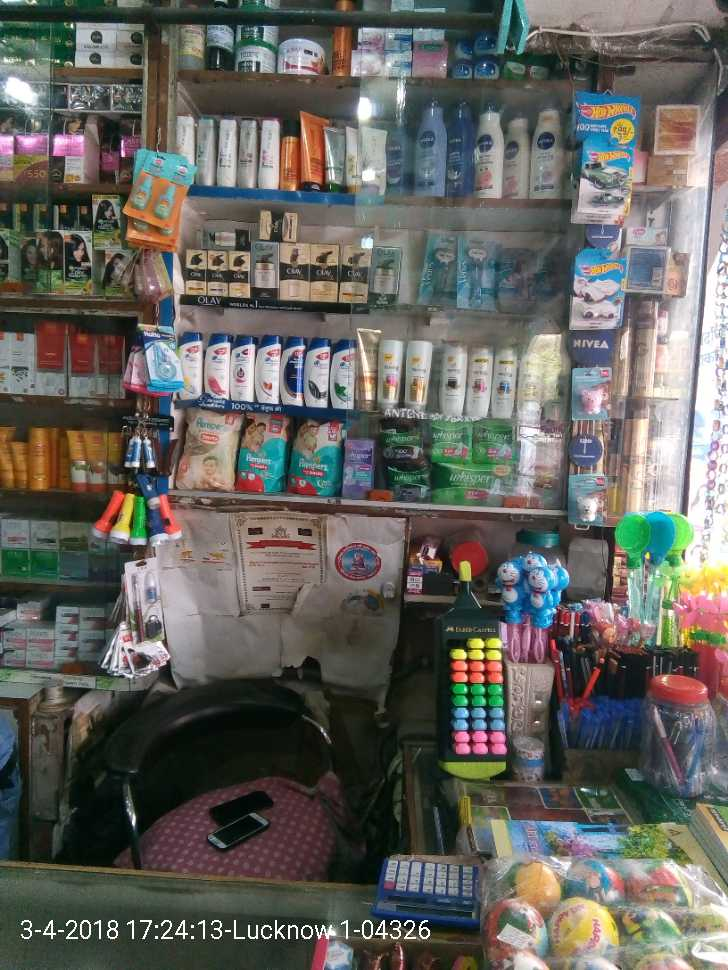venus: (457, 230, 496, 312), (496, 247, 541, 312), (419, 230, 457, 300), (541, 247, 559, 309)
